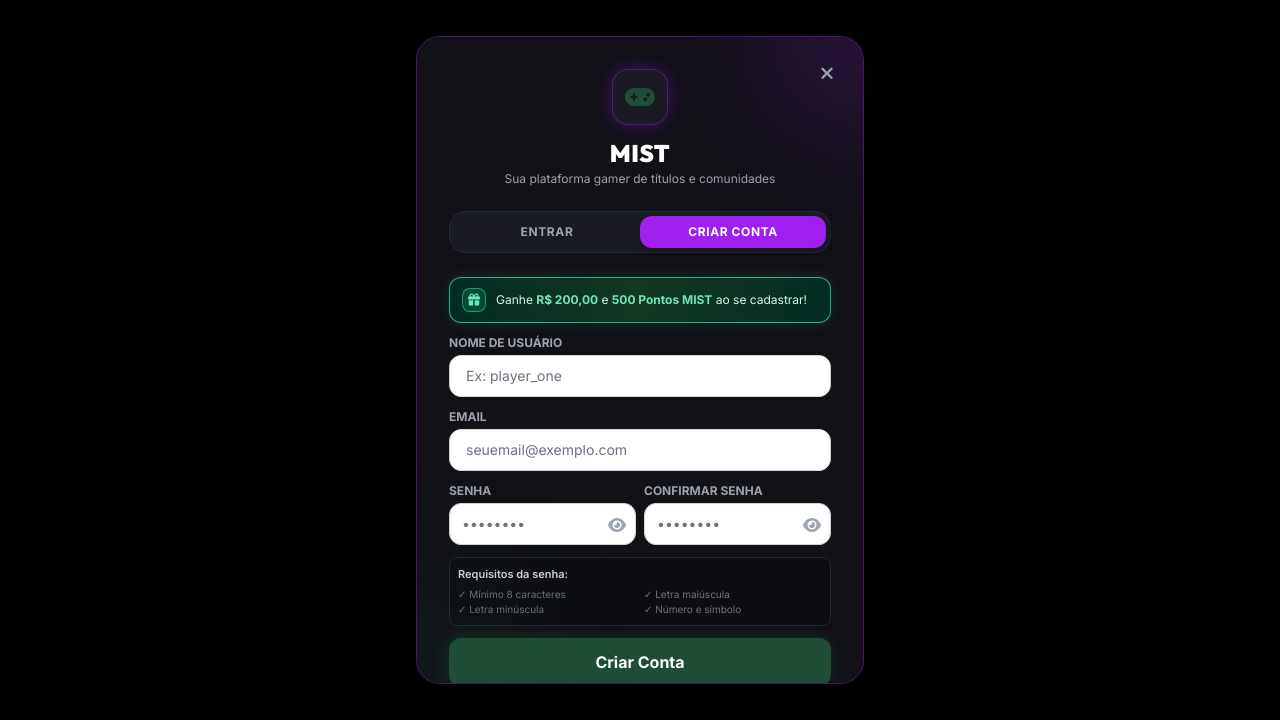
Scenario: Componente AuthModal (AuthModal.test.tsx) › deve validar regras de complexidade de senha via isPasswordStrong e bloquear senha fraca (FRONT-UNIT-05)
The width and height of the screenshot is (1280, 720).
Type "user_teste" into the field with placeholder "Ex: player_one".
click(640, 376); type("user_teste")  # box [449,355,831,397]
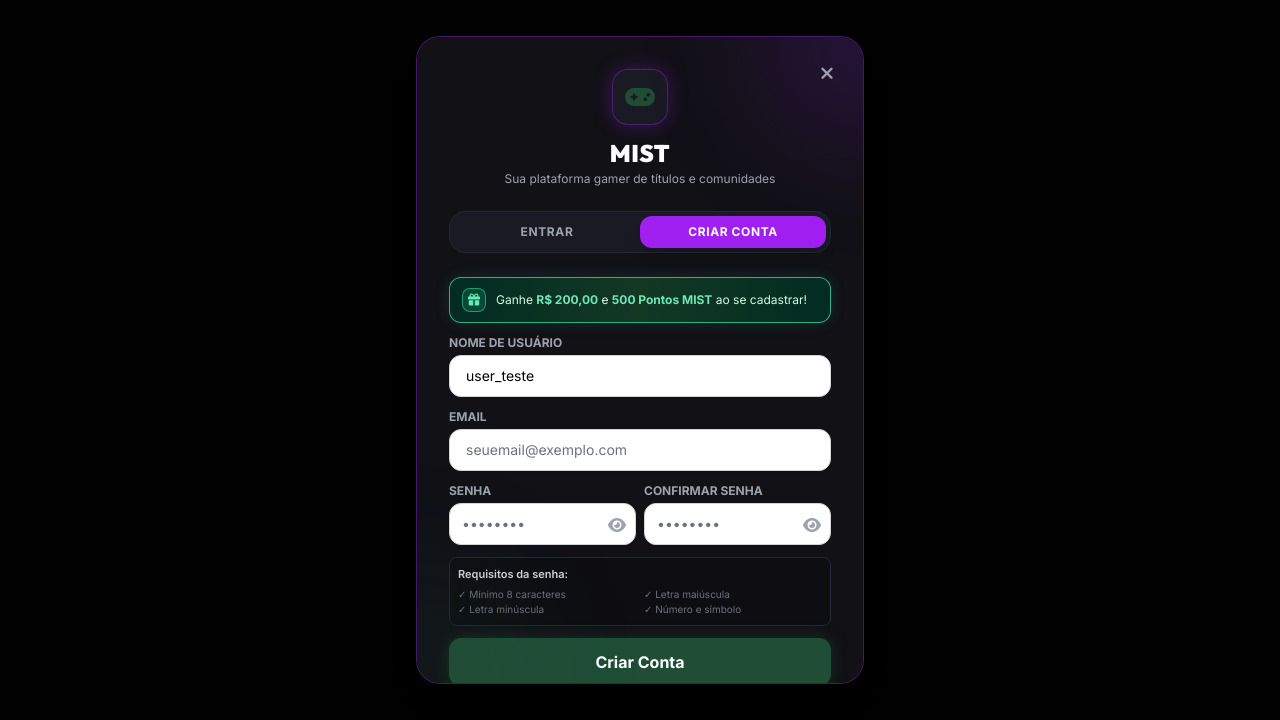
Type "teste@mist.com" into the field with placeholder "seuemail@exemplo.com".
click(640, 450); type("teste@mist.com")  # box [449,429,831,471]
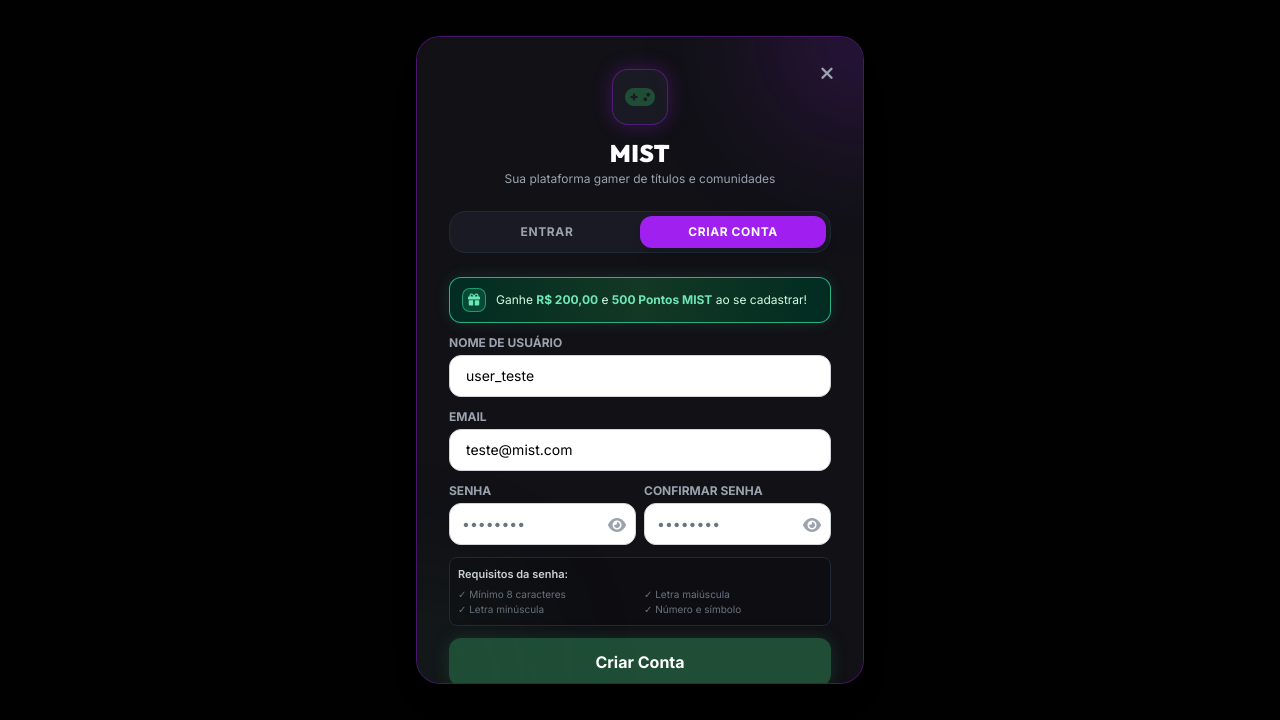
Type "fraca" into the 1st password field with placeholder "••••••••".
click(542, 524); type("fraca")  # box [449,503,636,545]
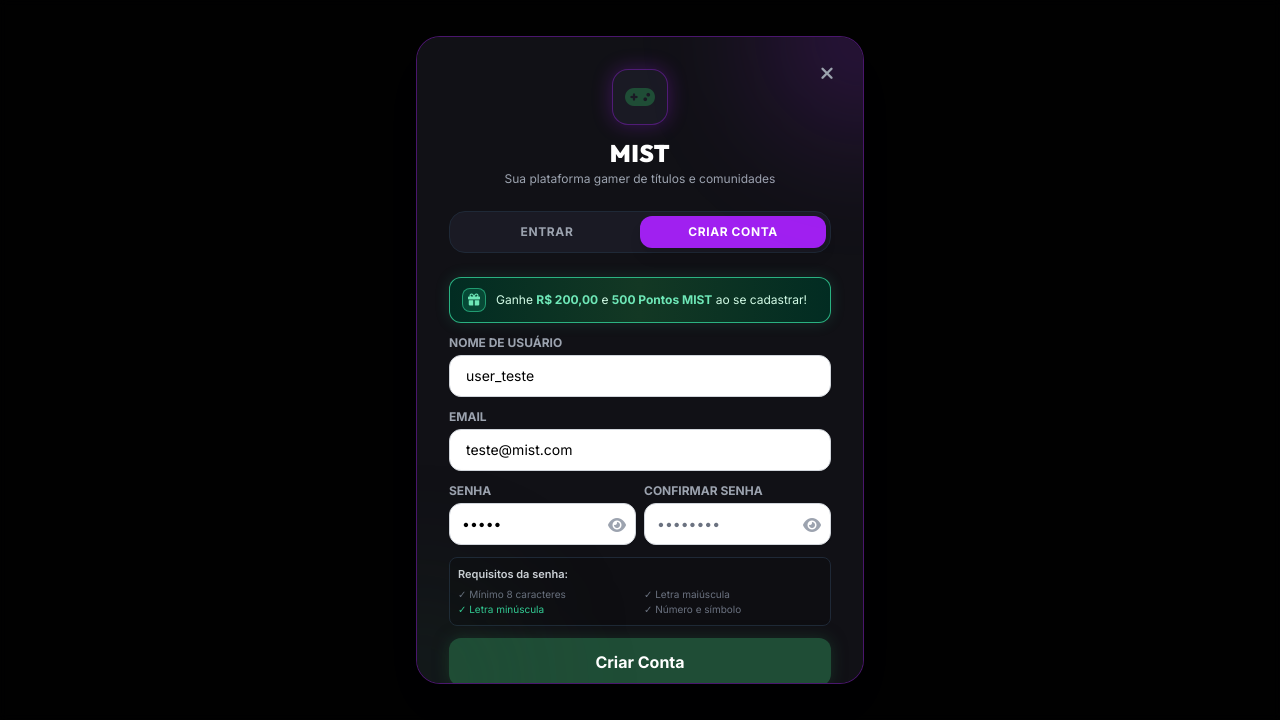
Type "fraca" into the password field with placeholder "••••••••".
click(738, 524); type("fraca")  # box [644,503,831,545]
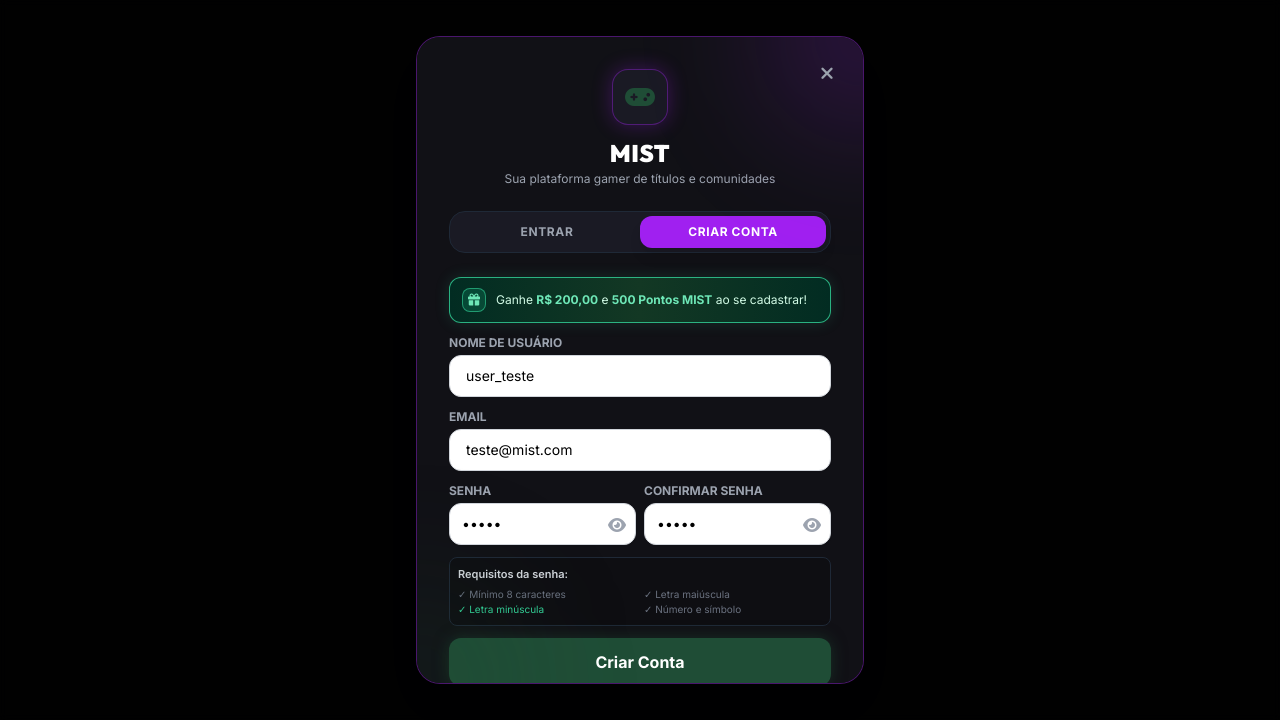
Click the submit button.
click(640, 662)  # box [449,638,831,686]
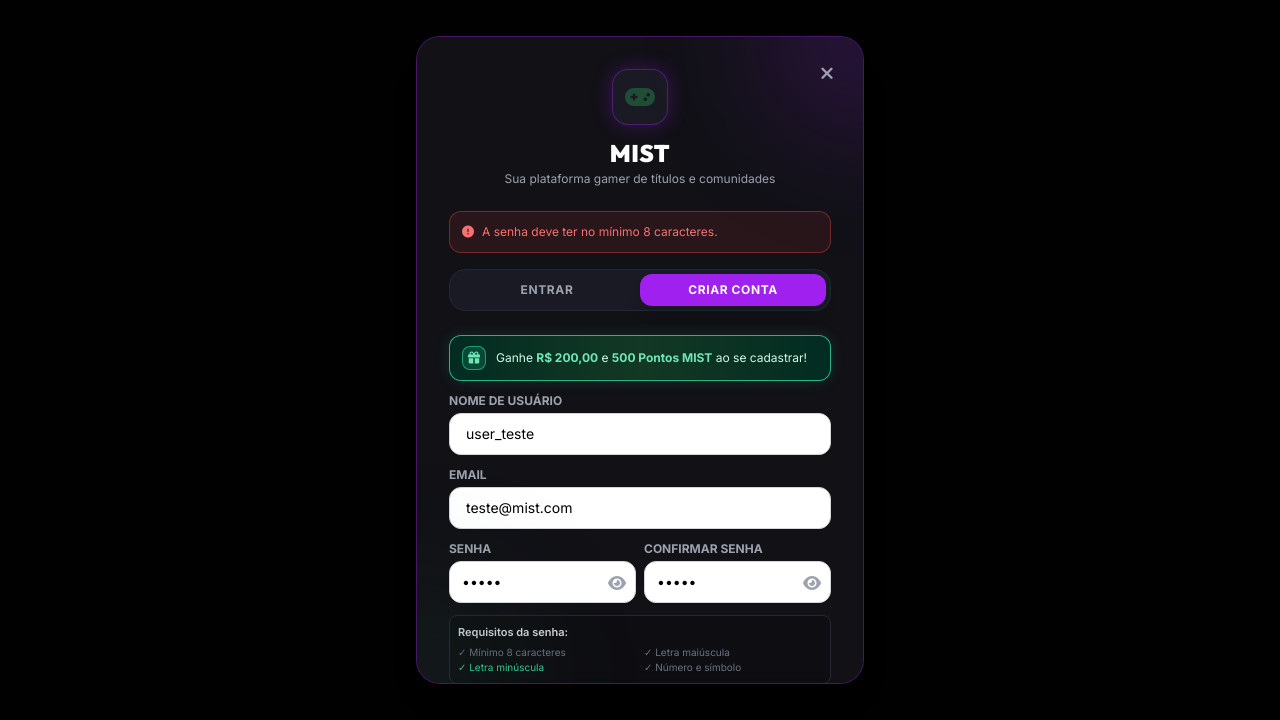
Check: the message shows "A senha deve ter no mínimo 8 caracteres", box [482,224,718,239]
